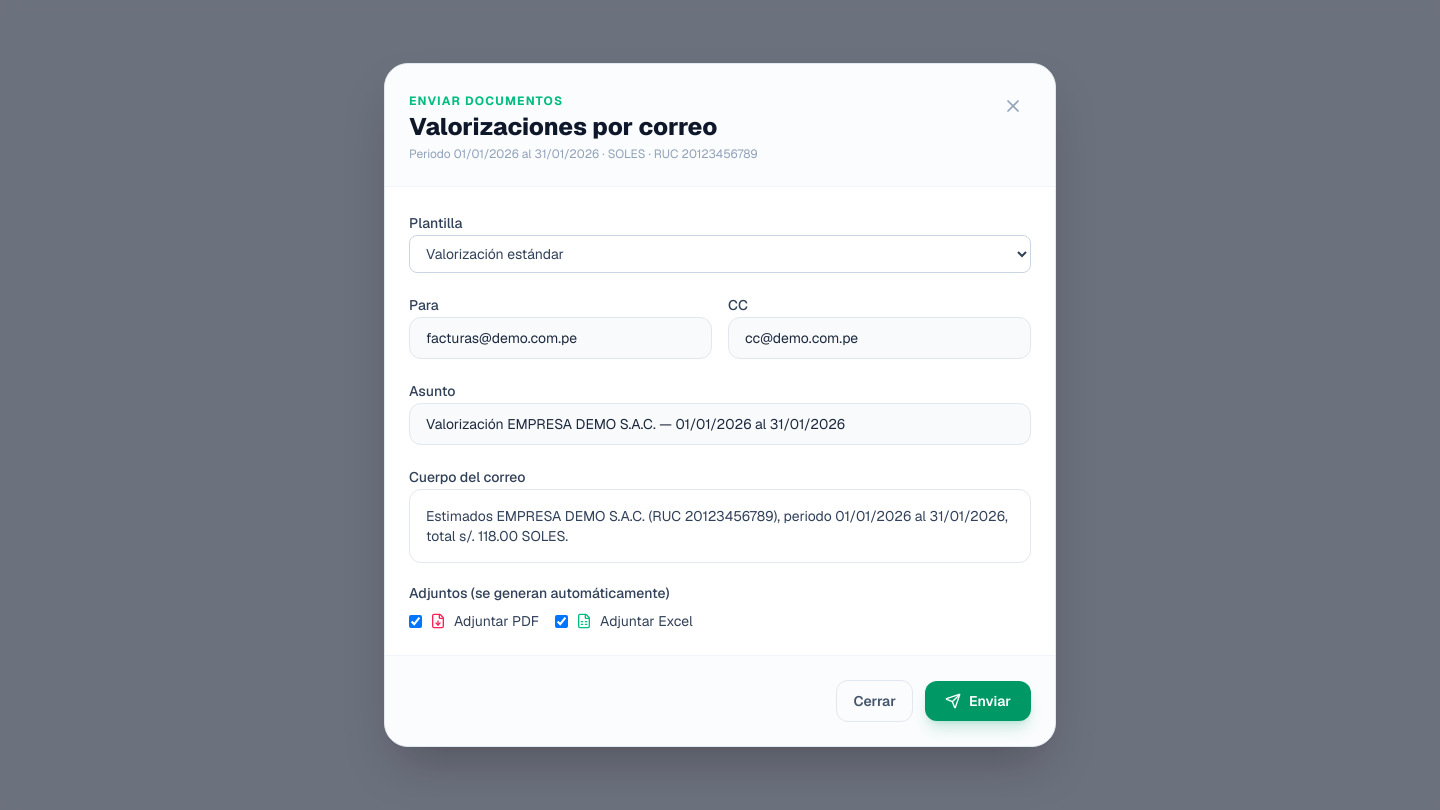
Test case: EnviarValoracionesModal › send failure surfaces the API error message (user-safe error handling)
Expected: the field labelled "Para" holds "facturas@demo.com.pe", x1=409 y1=317 x2=712 y2=359
Expected: the field labelled "Asunto" is not empty, x1=409 y1=403 x2=1031 y2=445
Click the button "Enviar": (978, 701) x1=925 y1=681 x2=1031 y2=721
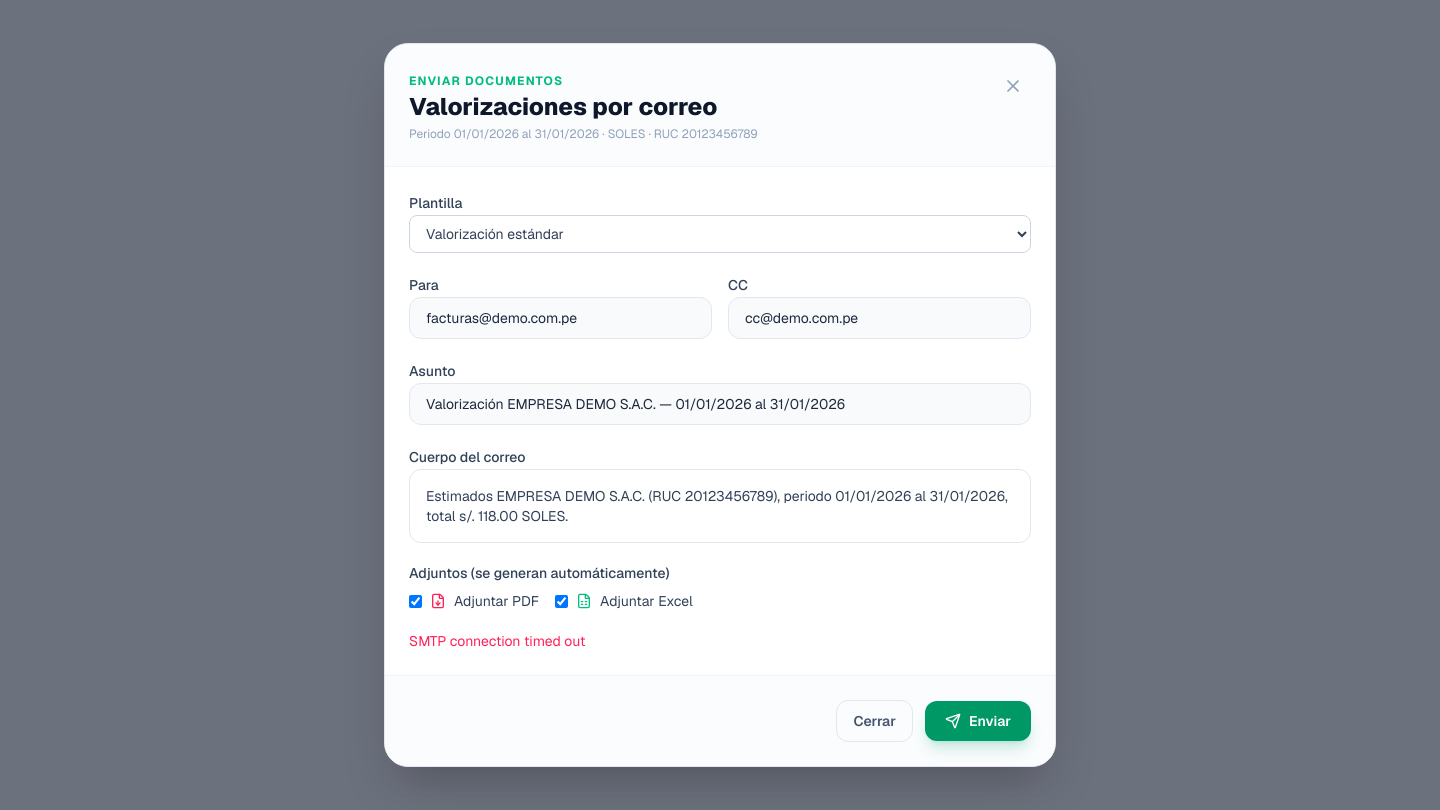
Expected: the message reads "SMTP connection timed out", x1=409 y1=632 x2=585 y2=650
